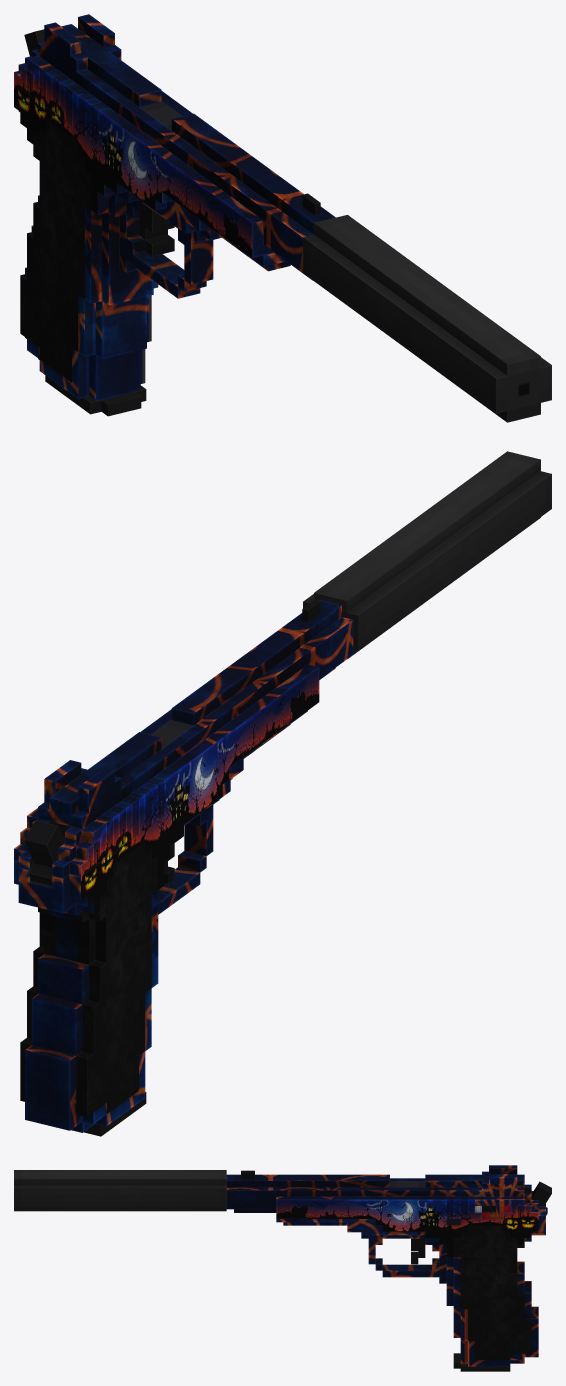
The model's file is RD_STECHKIN_SCARY.glb.
3 renders of one model, top to bottom at view 1: azimuth 30°, elevation 25°; view 2: azimuth 150°, elevation 25°; view 3: azimuth 270°, elevation 25°, orthographic. The views are drawn at different scales.
Parts seen in each view (by area): view 1: APS, APS_FRAME, SILENCER_5X5, APS_CLIP; view 2: APS, APS_FRAME, SILENCER_5X5, APS_TRIGGER; view 3: APS, APS_FRAME, SILENCER_5X5, APS_CLIP, APS_TRIGGER.
Boxes of the visible parts, box(x1,y1,x2,y2) form: APS: box(14, 84, 290, 401); APS_FRAME: box(14, 14, 335, 280); SILENCER_5X5: box(303, 215, 551, 422); APS_CLIP: box(45, 375, 146, 416); APS: box(14, 711, 307, 1132); APS_FRAME: box(14, 599, 353, 878); SILENCER_5X5: box(303, 451, 551, 658); APS_TRIGGER: box(24, 820, 64, 885); APS: box(276, 1181, 545, 1366); APS_FRAME: box(226, 1165, 545, 1218); SILENCER_5X5: box(14, 1170, 226, 1211); APS_CLIP: box(453, 1353, 510, 1371); APS_TRIGGER: box(531, 1181, 551, 1215).
Size of the model in its own units: 0.0591 by 0.2953 by 0.7467.
2 materials, 2 textured.
